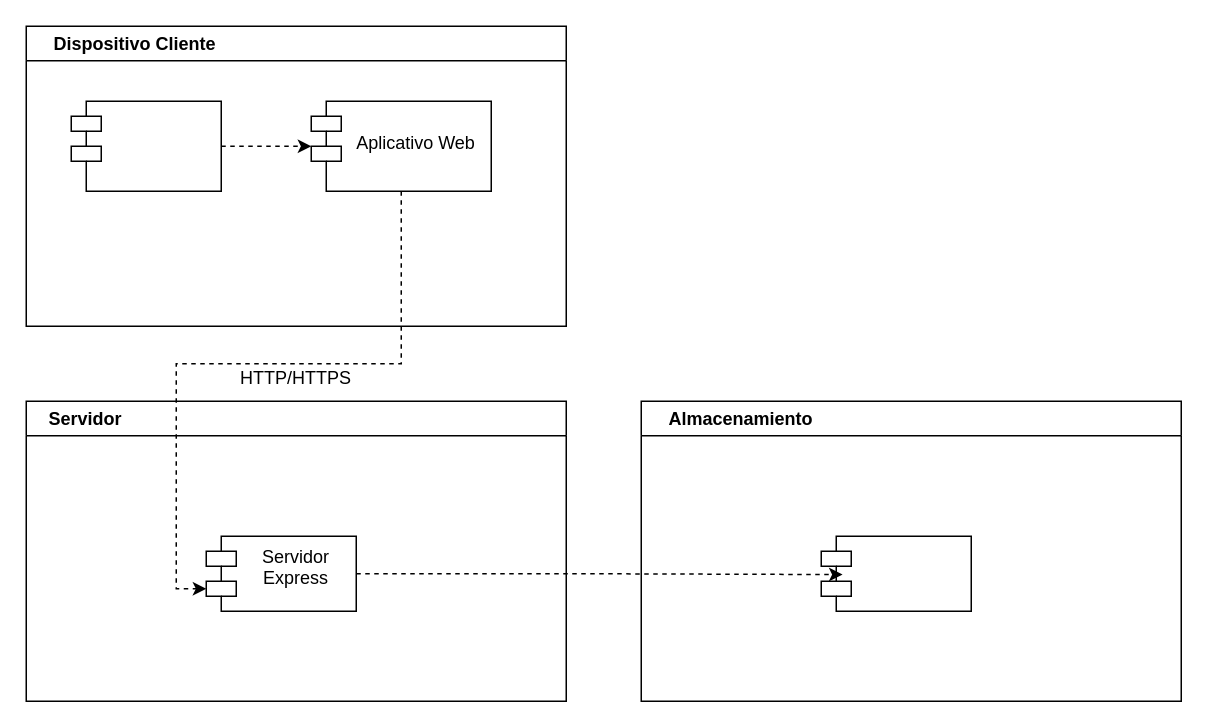
Image size: 1208x728. Some labels were removed from this diagram. Here are the shapes that lost their labels. From the top down, the box of each, then its label:
(70, 100, 221, 191): Navegador
(820, 535, 971, 611): Archivos JSON
